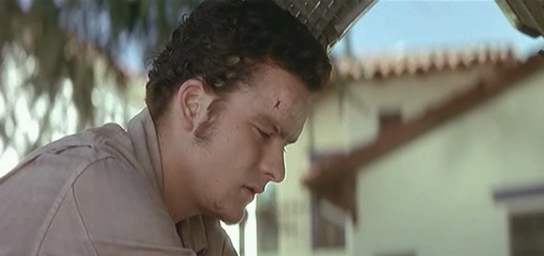cu: (1, 1, 544, 256)
face: (210, 89, 308, 226)
person: (1, 1, 333, 256)
